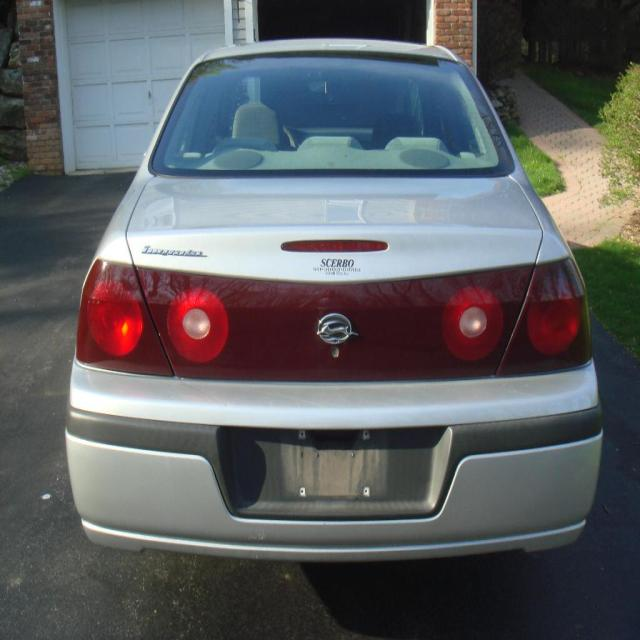car: (58, 27, 604, 580)
